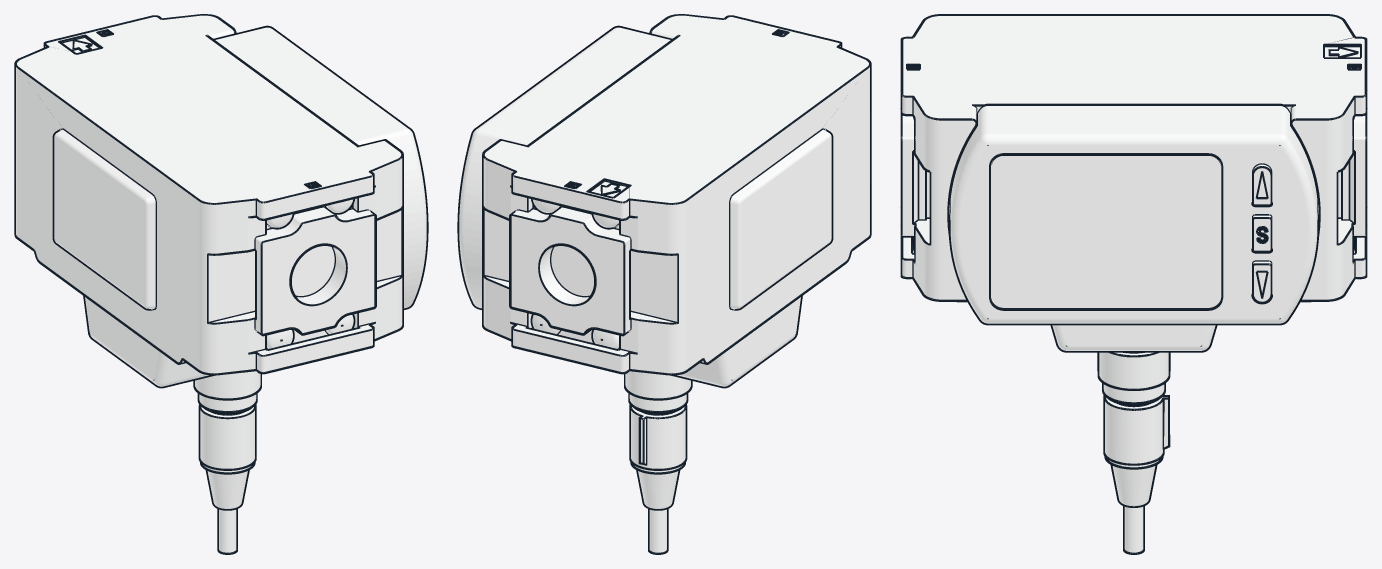
The model's file is PF3A701H-L30.display.glb.
3 renders of one model, left to right at view 1: azimuth 30°, elevation 25°; view 2: azimuth 150°, elevation 25°; view 3: azimuth 270°, elevation 25°, orthographic. The views are drawn at different scales.
Visible parts, largest first — view 1: PF3A701H_B, PF3A701H_DIS, ZS-37-A; view 2: PF3A701H_B, PF3A701H_DIS, ZS-37-A; view 3: PF3A701H_DIS, PF3A701H_B, ZS-37-A.
Boxes of the visible parts, x1,y1,x2,y2 form: PF3A701H_B: (14, 14, 403, 388); PF3A701H_DIS: (213, 25, 428, 309); ZS-37-A: (193, 371, 261, 554); PF3A701H_B: (482, 14, 871, 388); PF3A701H_DIS: (457, 25, 672, 309); ZS-37-A: (624, 371, 692, 554); PF3A701H_DIS: (948, 103, 1319, 325); PF3A701H_B: (900, 14, 1367, 352); ZS-37-A: (1097, 352, 1170, 554).
Size of the model in its own units: 0.0667 by 0.1129 by 0.1006.
